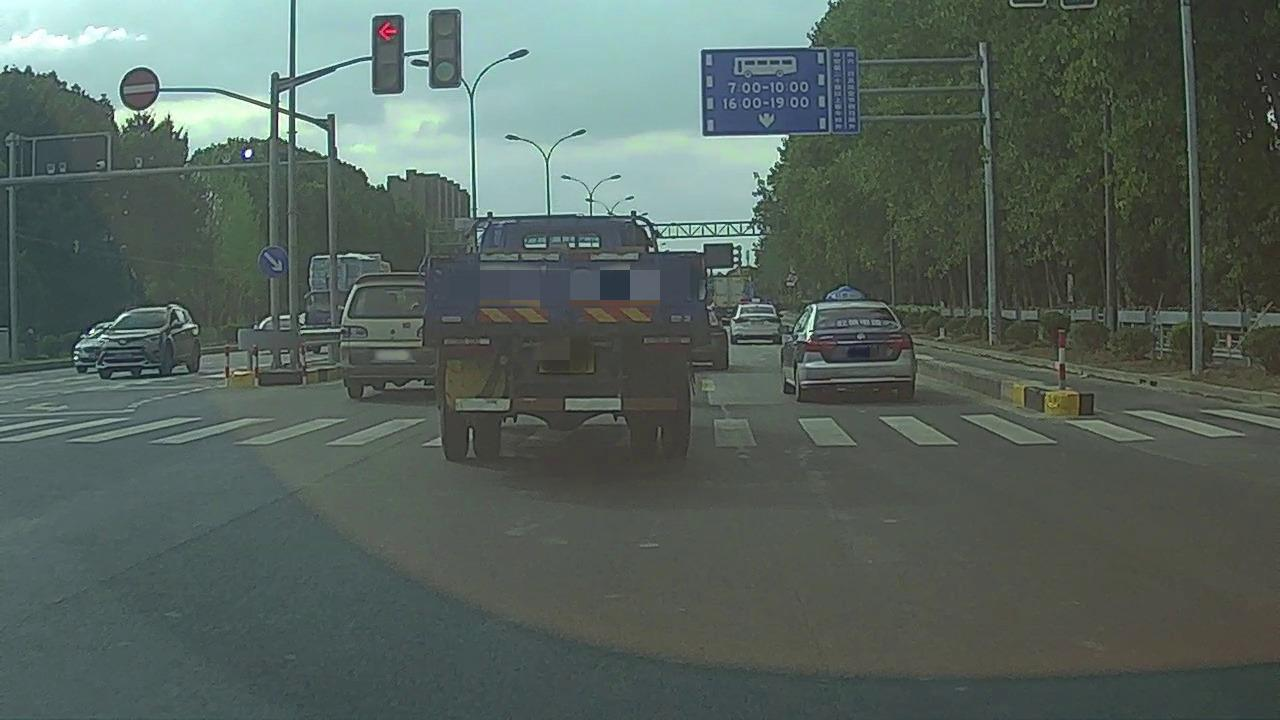traffic_light: (430, 10, 461, 89), (372, 15, 403, 93)
